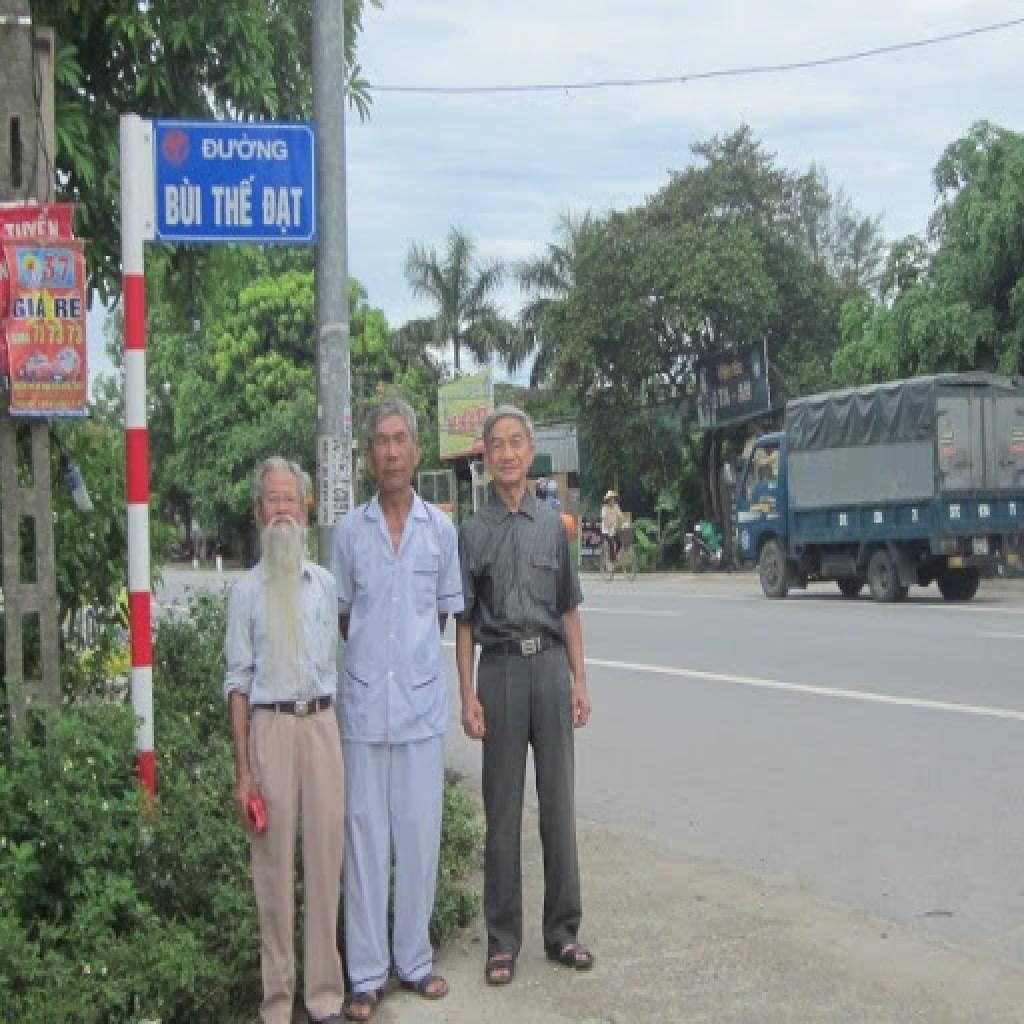text: (198, 128, 292, 165), (260, 181, 308, 240), (208, 174, 258, 230), (160, 171, 204, 232), (4, 206, 64, 246), (30, 320, 86, 349), (10, 288, 52, 323), (50, 286, 86, 326), (42, 248, 74, 291)
